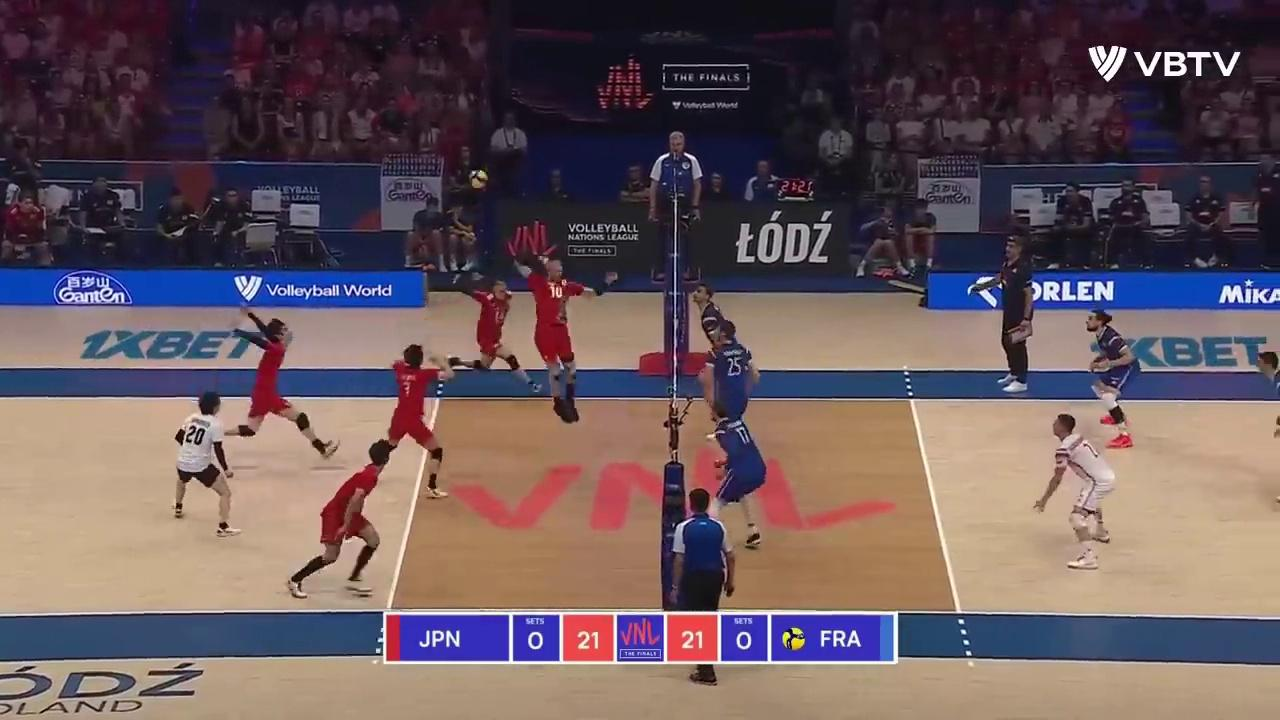ball: (470, 169, 488, 190)
